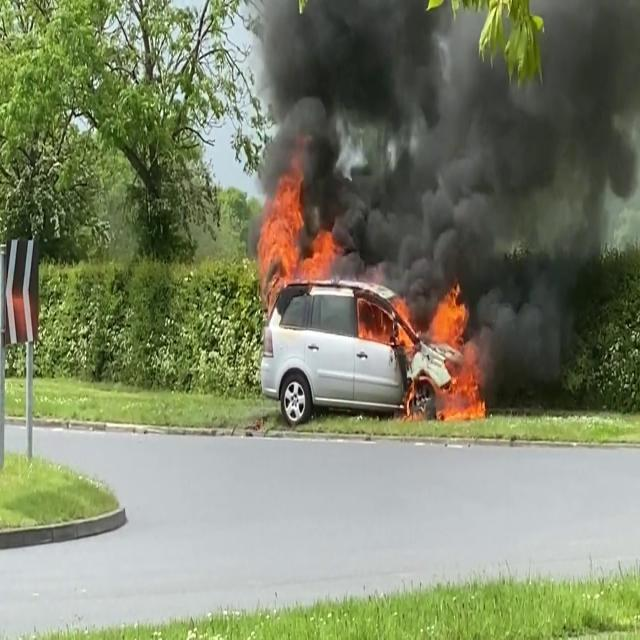Fire: (393, 284, 489, 426), (252, 172, 337, 300)
Smoke: (364, 2, 640, 299), (239, 1, 419, 200)
